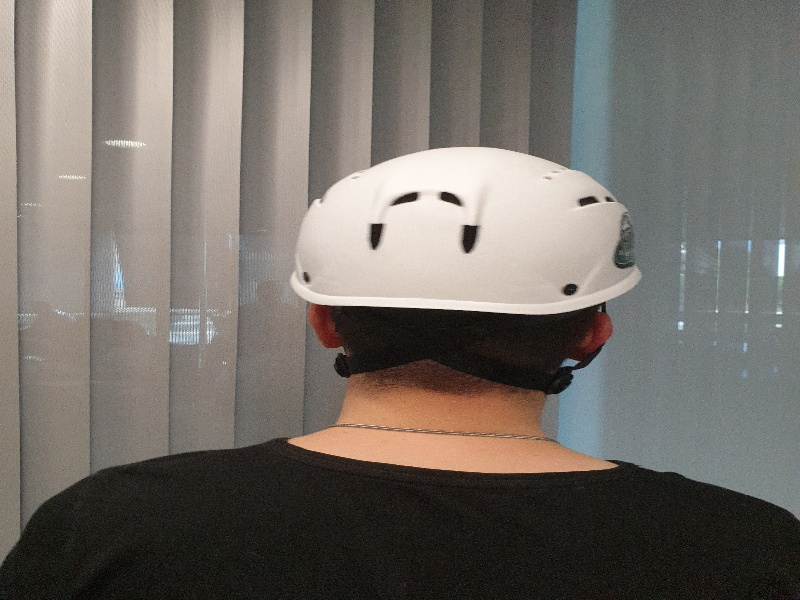Baret: (290, 146, 644, 320)
